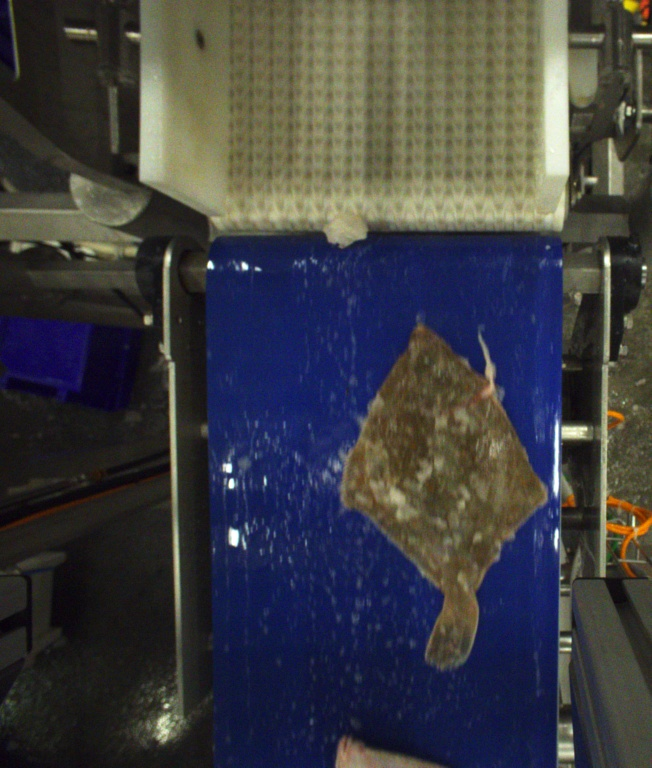PLE: (341, 325, 549, 669)
